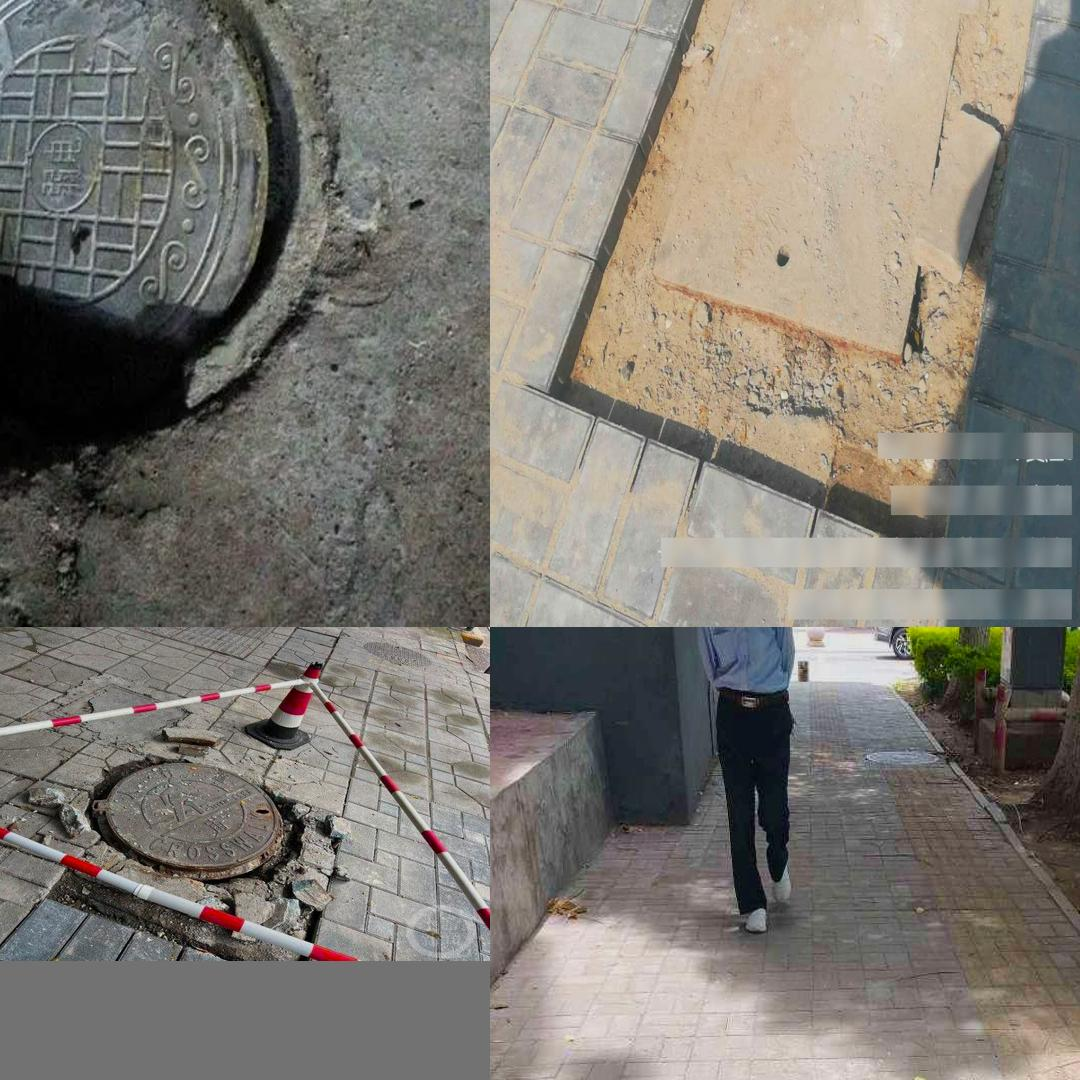circle: (555, 0, 1047, 462), (0, 0, 355, 465), (42, 742, 332, 949)
